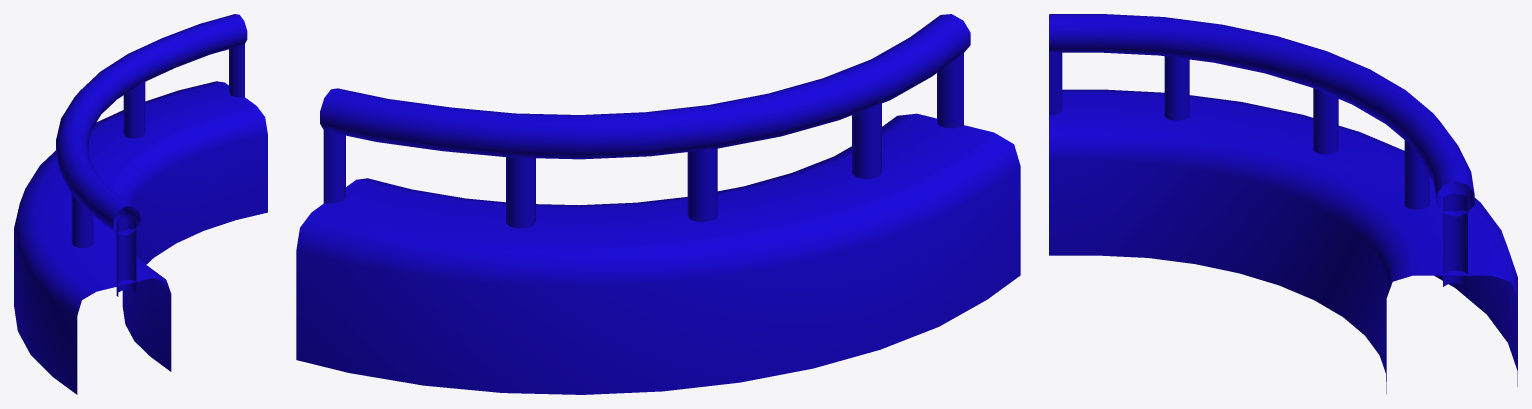
File: SM_RailingCorner.fbx
The picture shows the model from 3 angles, left to right: view 1: azimuth 30°, elevation 25°; view 2: azimuth 150°, elevation 25°; view 3: azimuth 270°, elevation 25°; orthographic projection. The views are drawn at different scales.
Visible parts, largest first — view 1: SM_RailingCorner; view 2: SM_RailingCorner; view 3: SM_RailingCorner.
Part boxes in pixels (box(x1,y1,x2,y2)): SM_RailingCorner: box(14, 14, 267, 394); SM_RailingCorner: box(296, 14, 1020, 394); SM_RailingCorner: box(1049, 14, 1517, 393).
Bounding box in the file's own units: 351 × 179 × 356.
